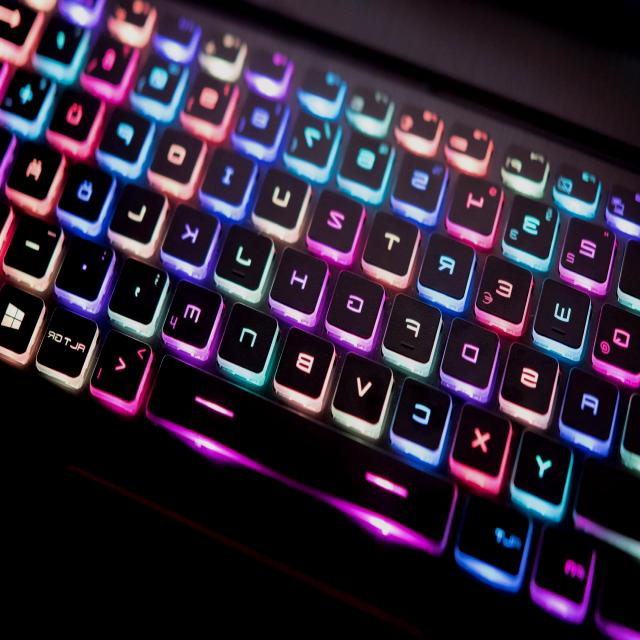0: (130, 46, 188, 108)
2: (559, 215, 618, 285)
3: (502, 193, 560, 261)
4: (447, 170, 505, 238)
5: (391, 151, 450, 215)
6: (338, 130, 397, 188)
7: (284, 111, 343, 169)
8: (232, 86, 290, 148)
9: (183, 55, 240, 129)
a: (560, 364, 622, 446)
ae: (7, 135, 68, 202)
alt-left: (455, 487, 533, 586)
altgr-right: (36, 303, 100, 387)
b: (273, 324, 338, 404)
c: (389, 376, 455, 458)
comma: (109, 253, 173, 327)
d: (439, 314, 503, 393)
e: (474, 249, 536, 329)
f: (381, 289, 445, 369)
g: (325, 264, 389, 344)
h: (269, 242, 333, 316)
i: (200, 142, 258, 206)
j: (213, 219, 277, 293)
k: (161, 198, 223, 268)
keyboard: (2, 5, 638, 636)
l: (108, 180, 170, 244)
less: (90, 326, 154, 410)
m: (162, 275, 228, 351)
minus: (3, 210, 67, 280)
n: (216, 300, 282, 377)
o: (148, 123, 208, 186)
oe: (56, 157, 117, 224)
p: (95, 101, 155, 164)
plus: (2, 61, 56, 121)
point: (54, 234, 118, 302)
q: (592, 298, 640, 376)
r: (418, 228, 479, 304)
s: (497, 339, 561, 418)
space: (125, 347, 467, 545)
ss: (83, 25, 136, 87)
t: (362, 207, 422, 279)
u: (253, 163, 313, 230)
ue: (47, 83, 104, 143)
v: (330, 349, 396, 432)
w: (531, 272, 593, 352)
x: (450, 401, 514, 481)
y: (512, 426, 575, 510)
z: (307, 187, 367, 253)
